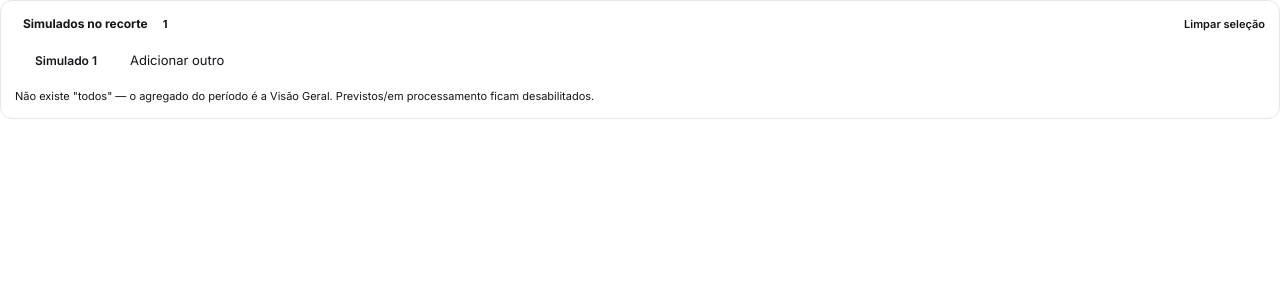
Test: SeletorSimulados › a lista é de CHECKBOX, com nome · data · modalidade em cada linha (§10.4)
Click the button with aria-label "Escolher simulados".
click(177, 60)  # box [130,49,1257,72]
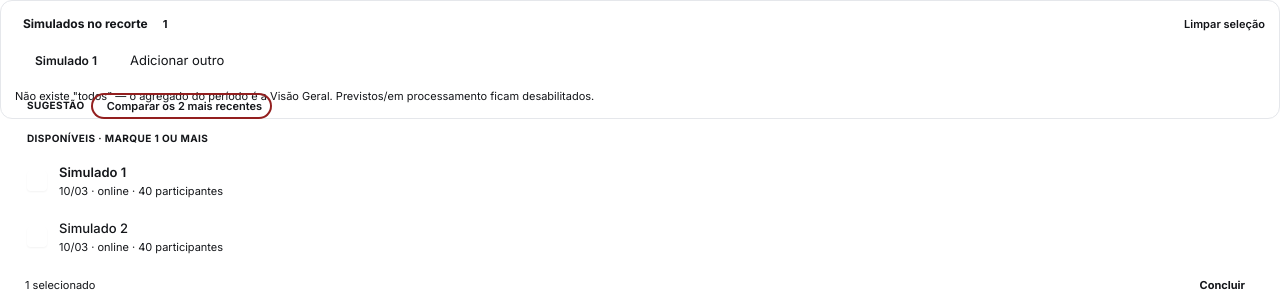
expect the checkbox named "Simulado 1 · 10/03 · online" is checked: met, box [27,164,223,198]
expect the checkbox named "Simulado 2 · 10/03 · online" is not checked: met, box [27,220,223,254]
